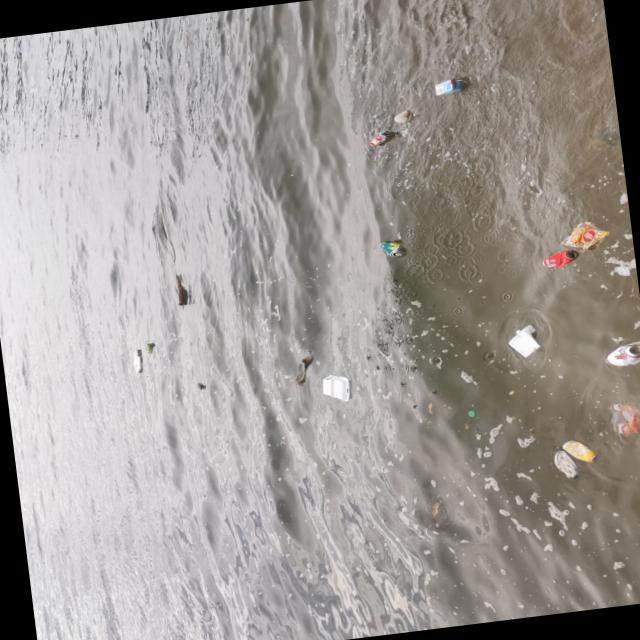can: (561, 437, 598, 464), (604, 341, 640, 367), (541, 249, 577, 269), (380, 239, 404, 258), (147, 343, 154, 354)
foam: (506, 323, 546, 361), (318, 373, 355, 404), (133, 349, 144, 373)
